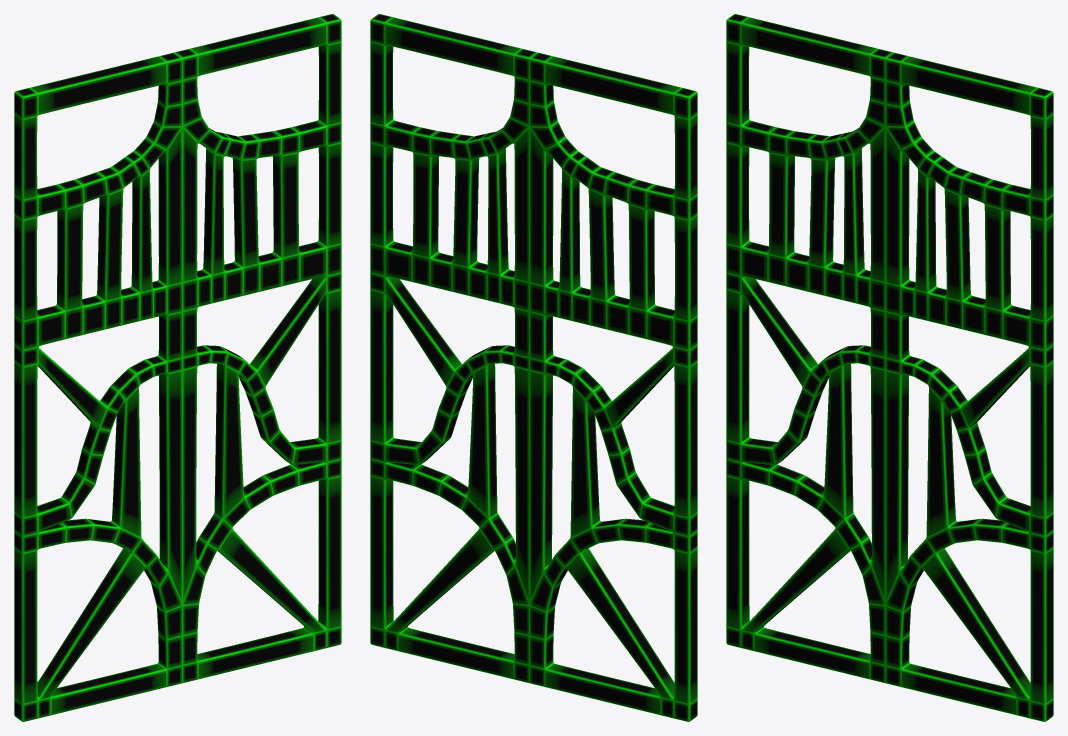
The model's file is Wall1.fbx.
3 views of the same model, side by side, from view 1: azimuth 30°, elevation 25°; view 2: azimuth 150°, elevation 25°; view 3: azimuth 330°, elevation 25° (orthographic).
Visible parts, largest first — view 1: Wall1; view 2: Wall1; view 3: Wall1.
Boxes of the visible parts, box(x1,y1,x2,y2) form: Wall1: box(14, 14, 341, 721); Wall1: box(370, 14, 697, 721); Wall1: box(726, 14, 1053, 721).
Bounding box in the file's own units: 10.02 × 18.71 × 0.4926.
